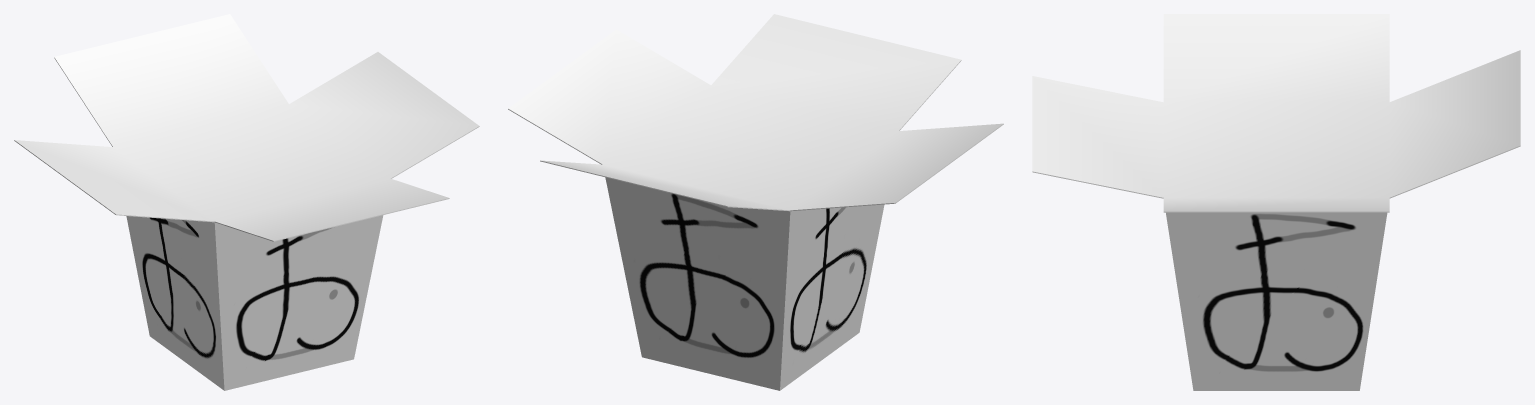
Rendered from Take Out Box.fbx.
The picture shows the model from 3 angles, left to right: view 1: azimuth 30°, elevation 25°; view 2: azimuth 150°, elevation 25°; view 3: azimuth 270°, elevation 25°; orthographic projection. The views are drawn at different scales.
Parts seen in each view (by area): view 1: pCube1; view 2: pCube1; view 3: pCube1.
Boxes of the visible parts, left/top/right/bottom form: pCube1: left=14, top=14, right=479, bottom=390; pCube1: left=508, top=14, right=1003, bottom=390; pCube1: left=1032, top=14, right=1520, bottom=390.
Bounding box in the file's own units: 2.07 × 1.26 × 2.16.
